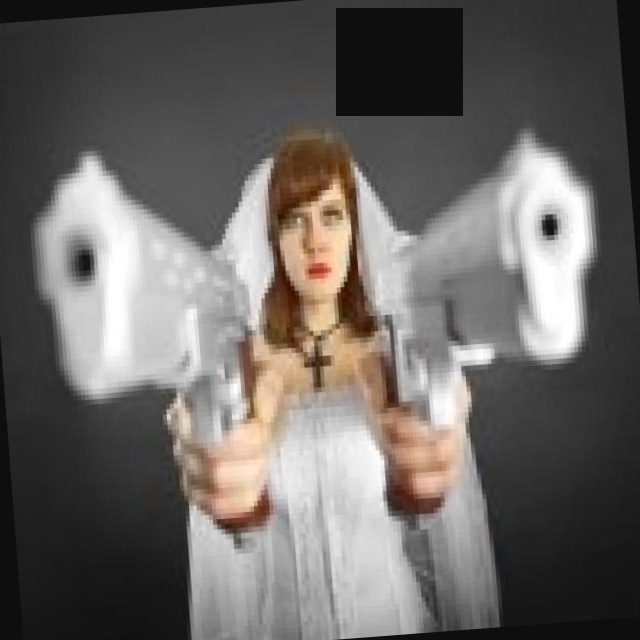gun: (11, 117, 292, 573), (340, 112, 625, 543)
